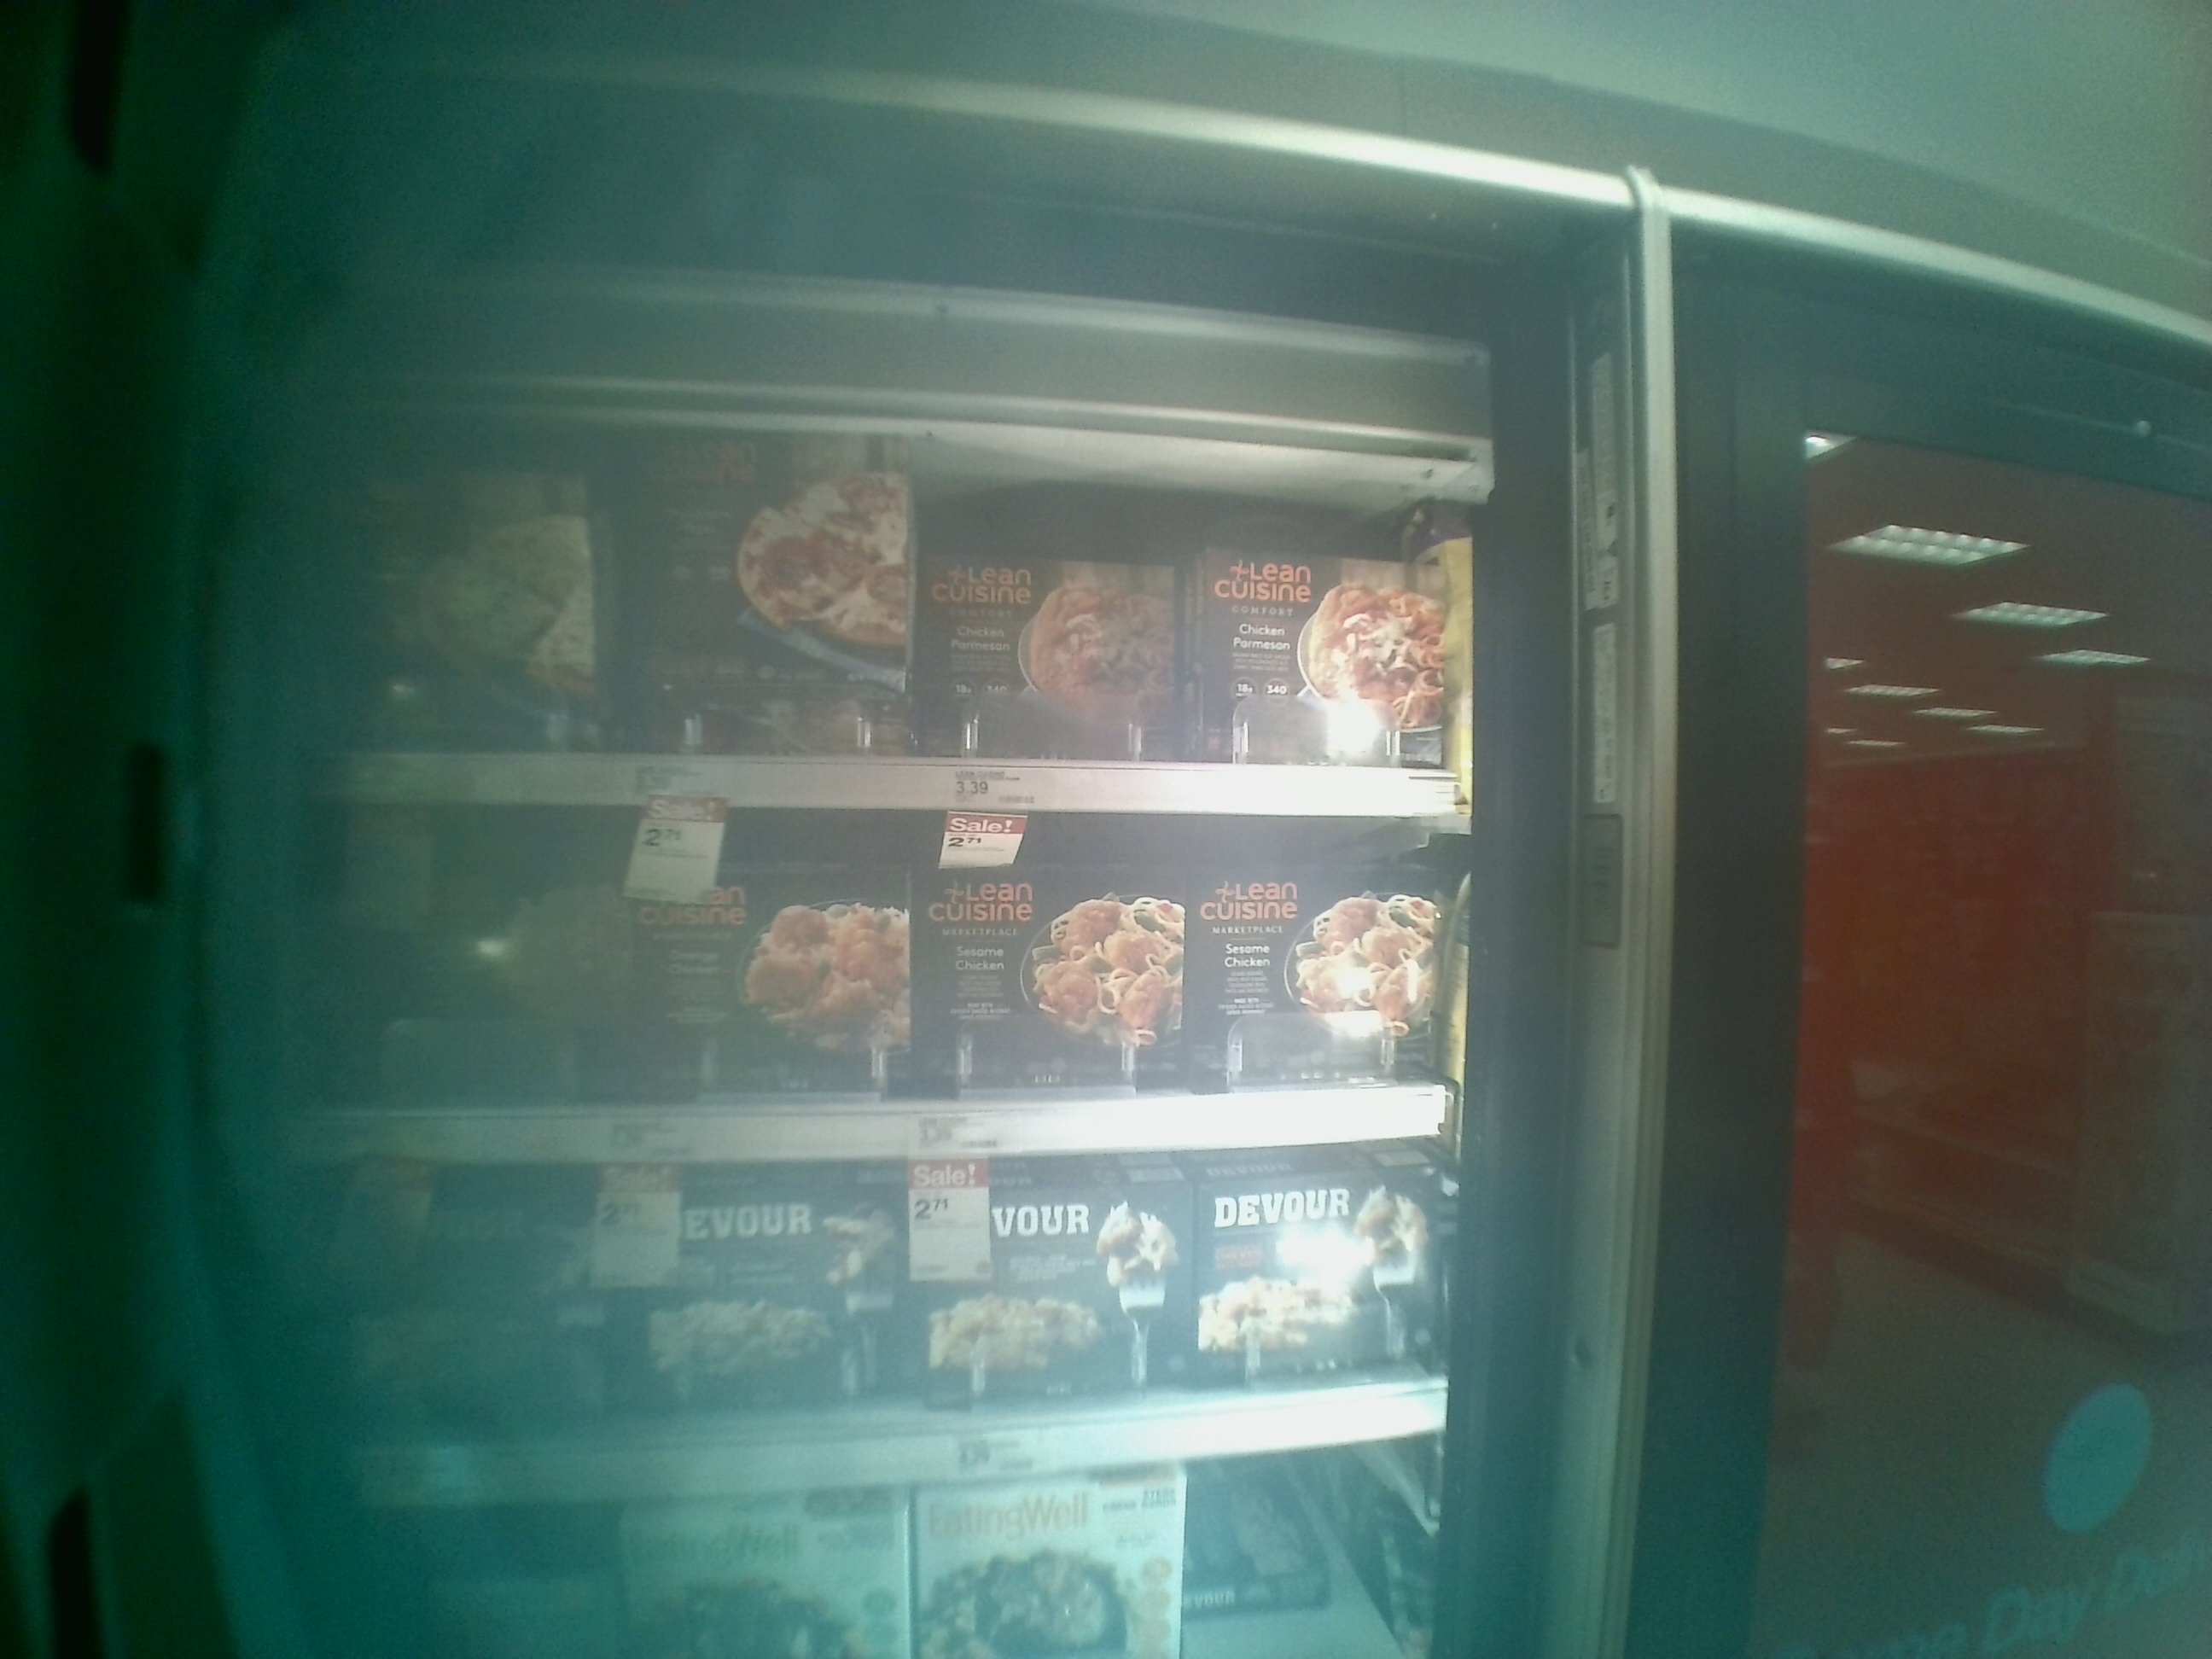shelf: (326, 382, 1468, 817), (319, 807, 1468, 1159), (320, 1161, 1475, 1502)
